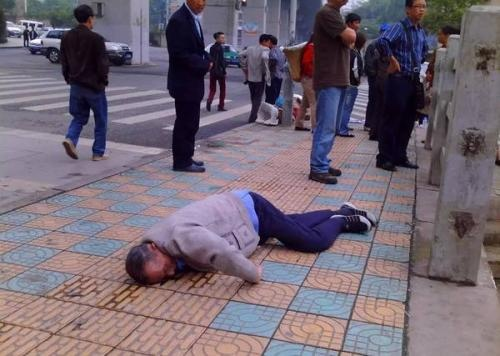falling: (120, 177, 378, 297)
